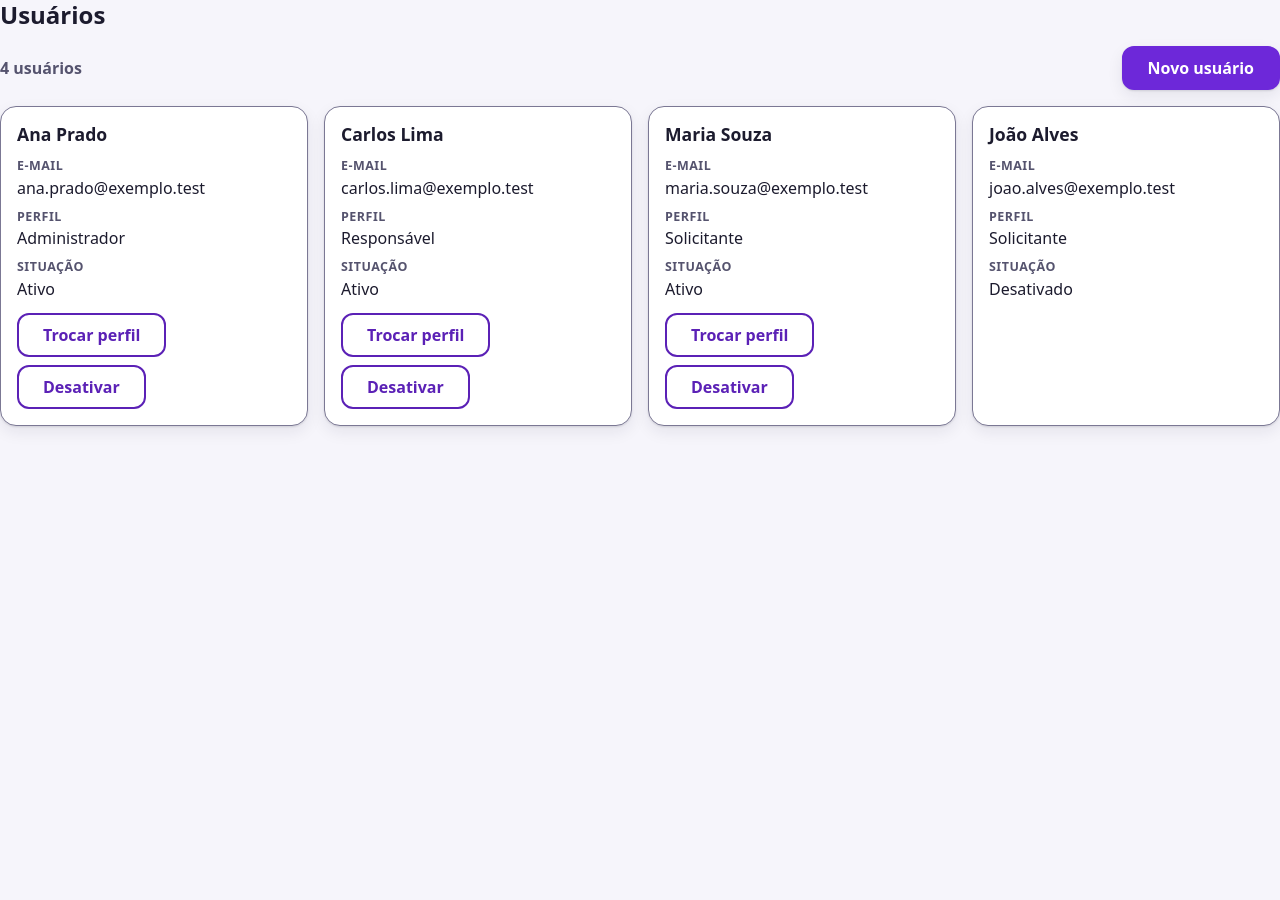
Test: PaginaDeUsuarios: trocar perfil (RF-15) › MINIMO_DE_RESPONSAVEIS: a mensagem e a ação da tabela de erros aparecem no diálogo, com o foco, e o perfil não muda
Click the button "Trocar perfil" below "Responsável" at (416, 335), box [341,313,490,357]
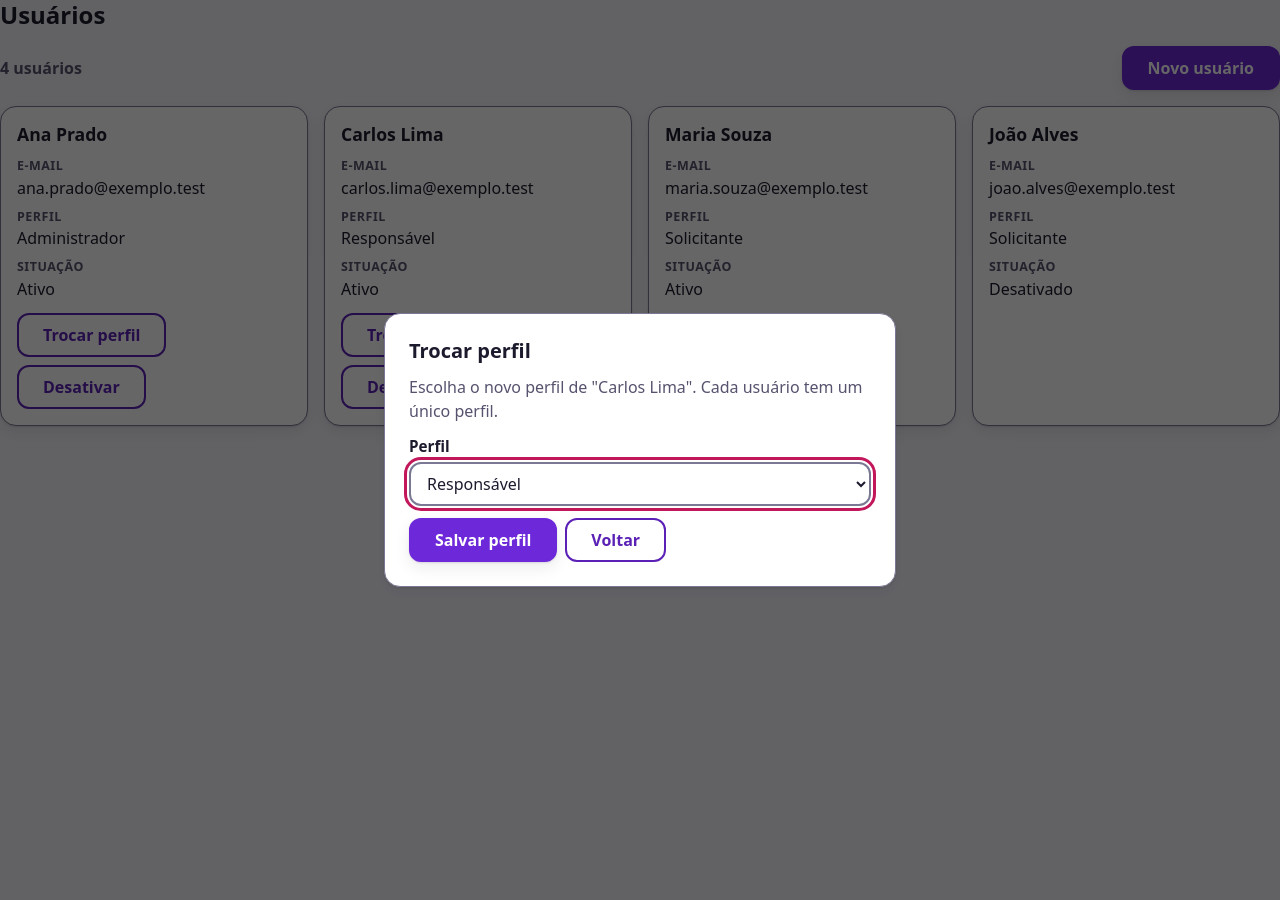
Select "Solicitante" in the dropdown labelled "Perfil" at (640, 484), box [409,462,871,506]
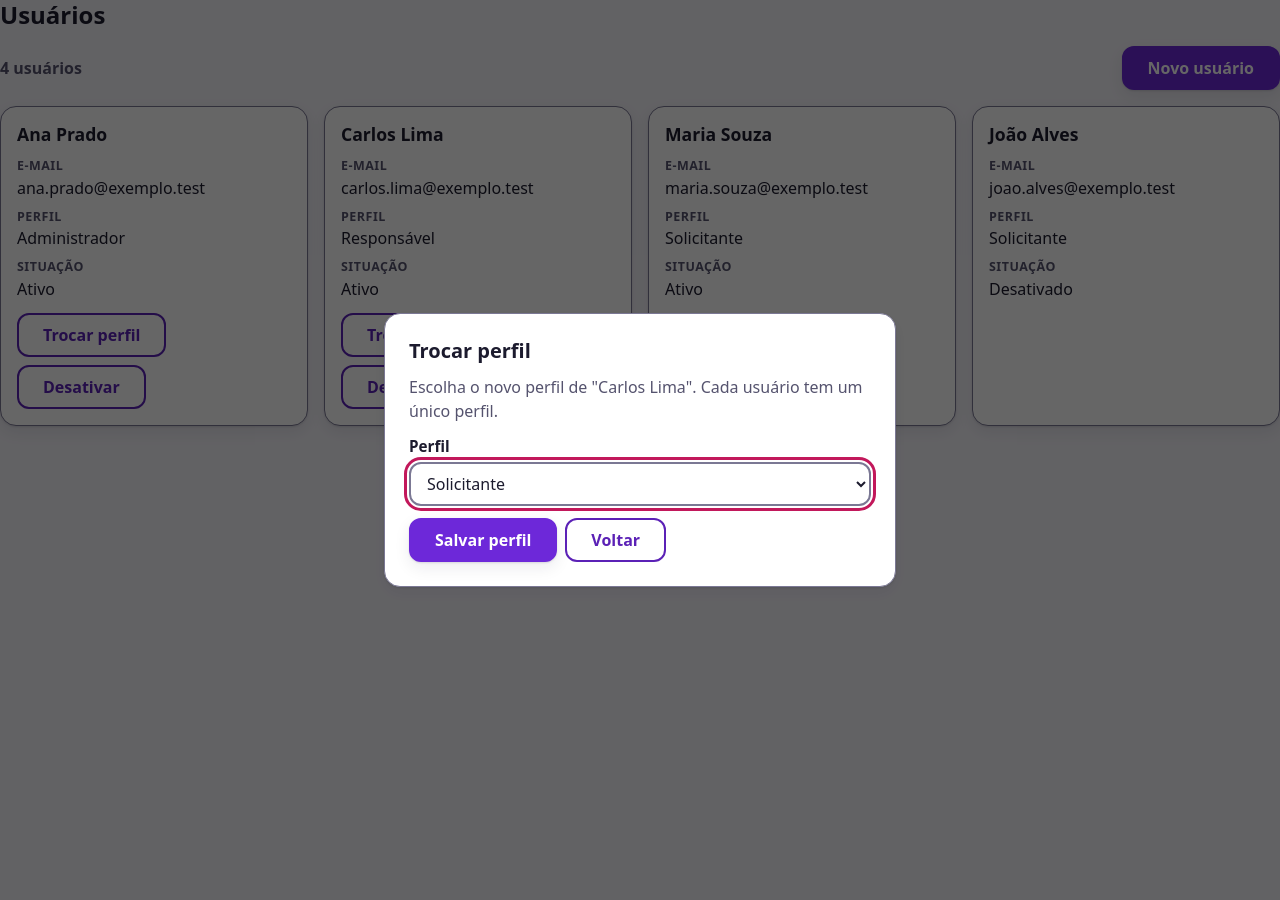
Click the button "Salvar perfil" at (483, 540), box [409,518,557,562]
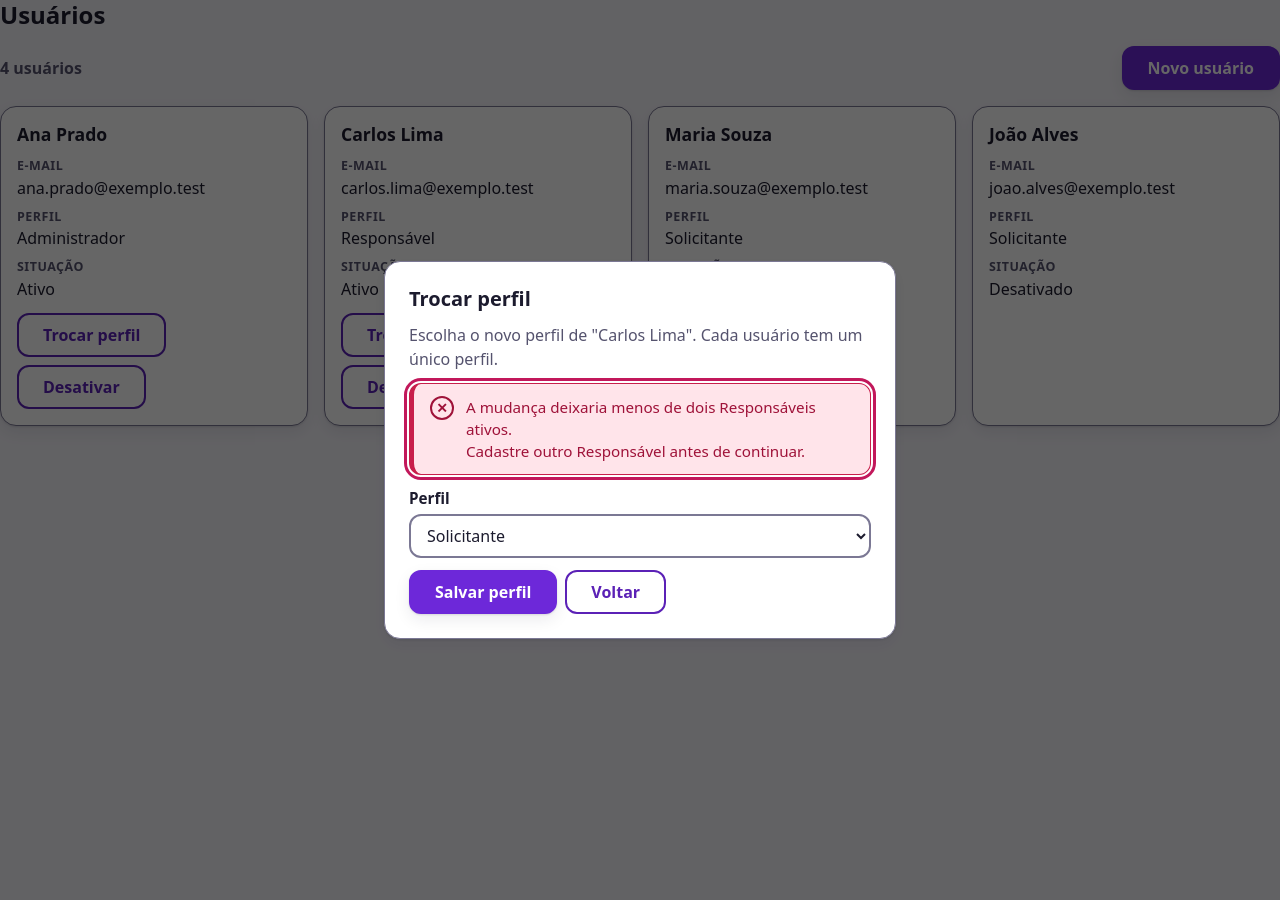
Result: the button "Salvar perfil" is enabled at [409,570,557,614]
Result: the message shows "A mudança deixaria menos de dois Responsáveis ativos." at [466,397,816,439]
Result: the message shows "Cadastre outro Responsável antes de continuar." at [466,441,805,461]
